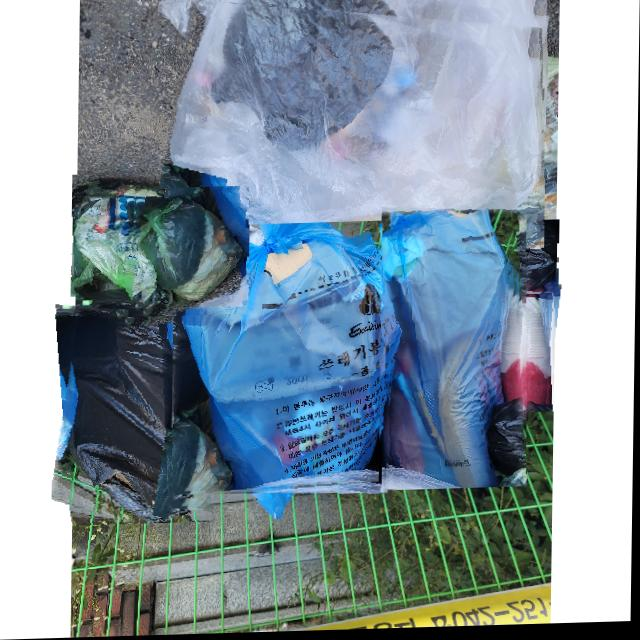general_trashbag: (172, 223, 398, 492), (383, 211, 528, 493), (135, 187, 249, 317), (72, 175, 156, 302)
other_trashbag: (161, 0, 544, 255), (53, 306, 204, 524), (499, 286, 557, 415), (493, 223, 559, 301)
